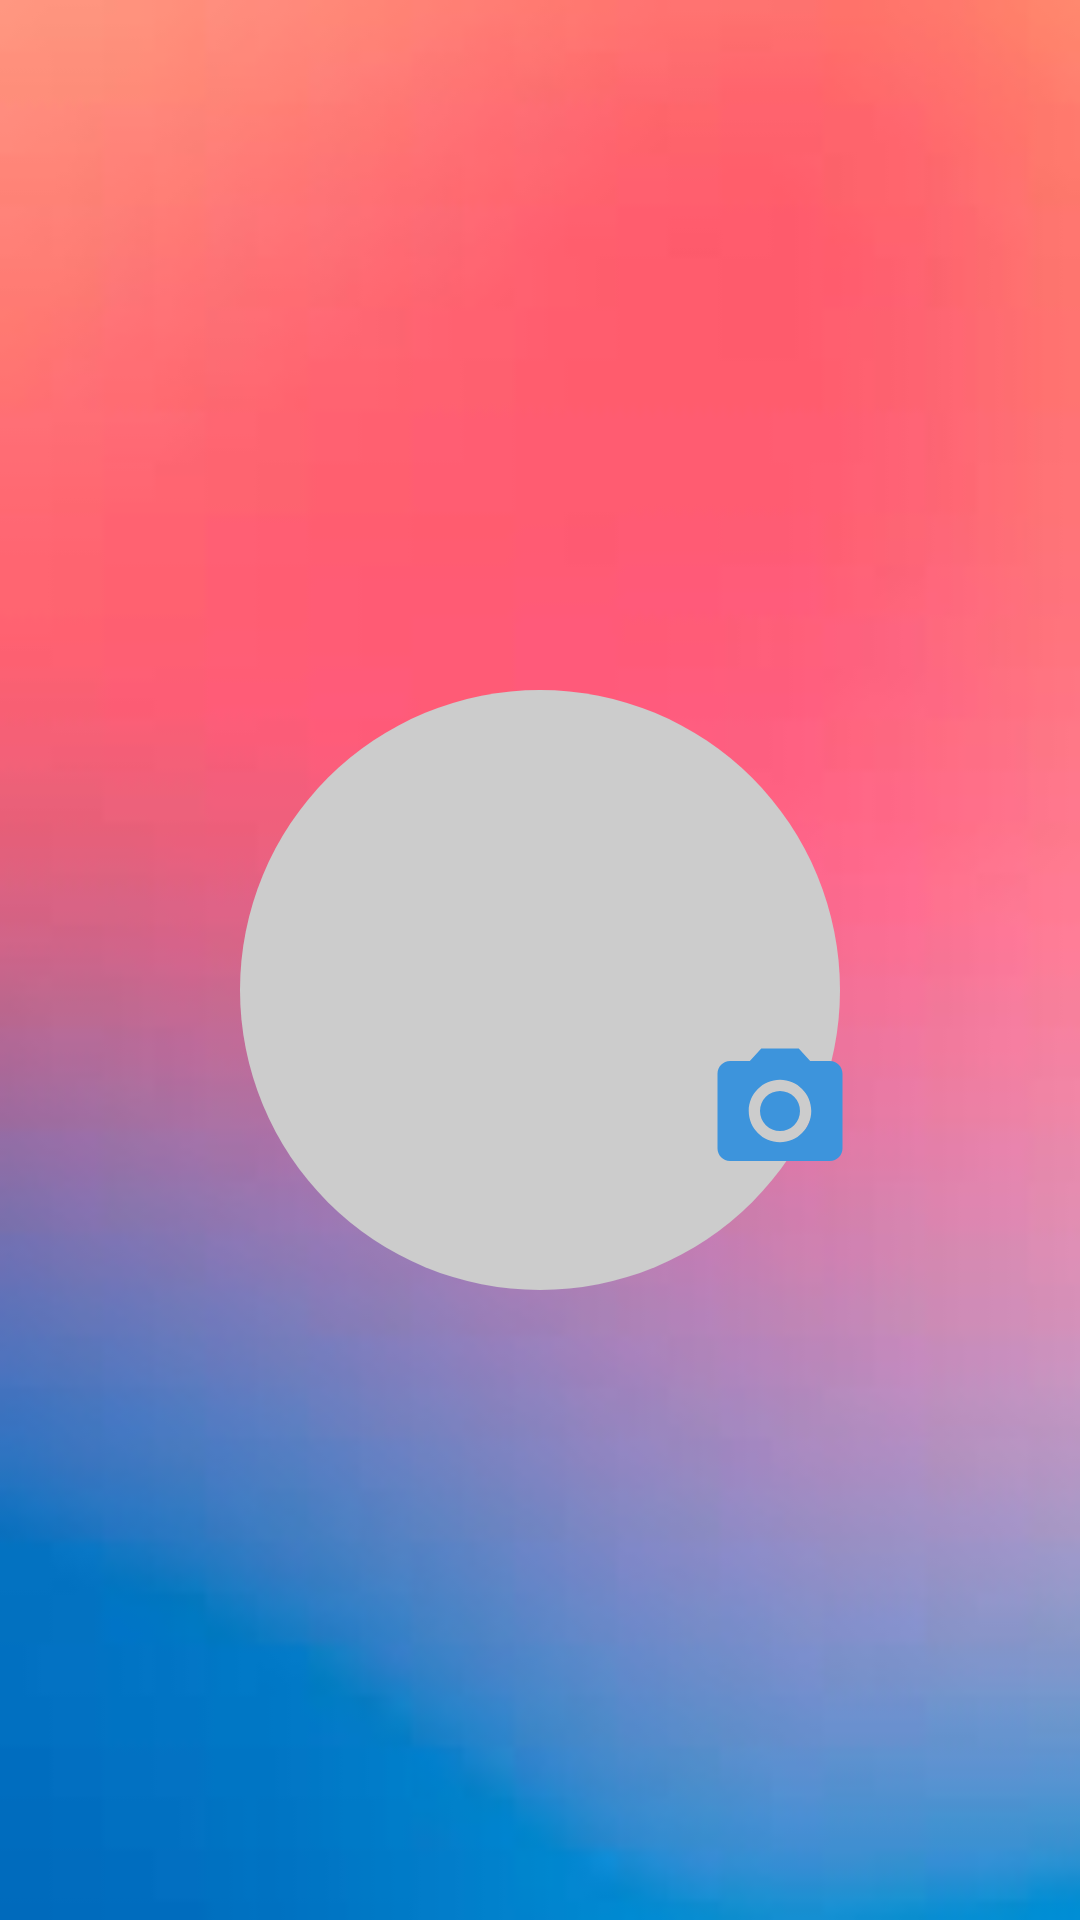

Point at icon controls on the screen. Image size 1080w x 1920h, points as (x=x, y=y).
camara: (x=780, y=1111)
